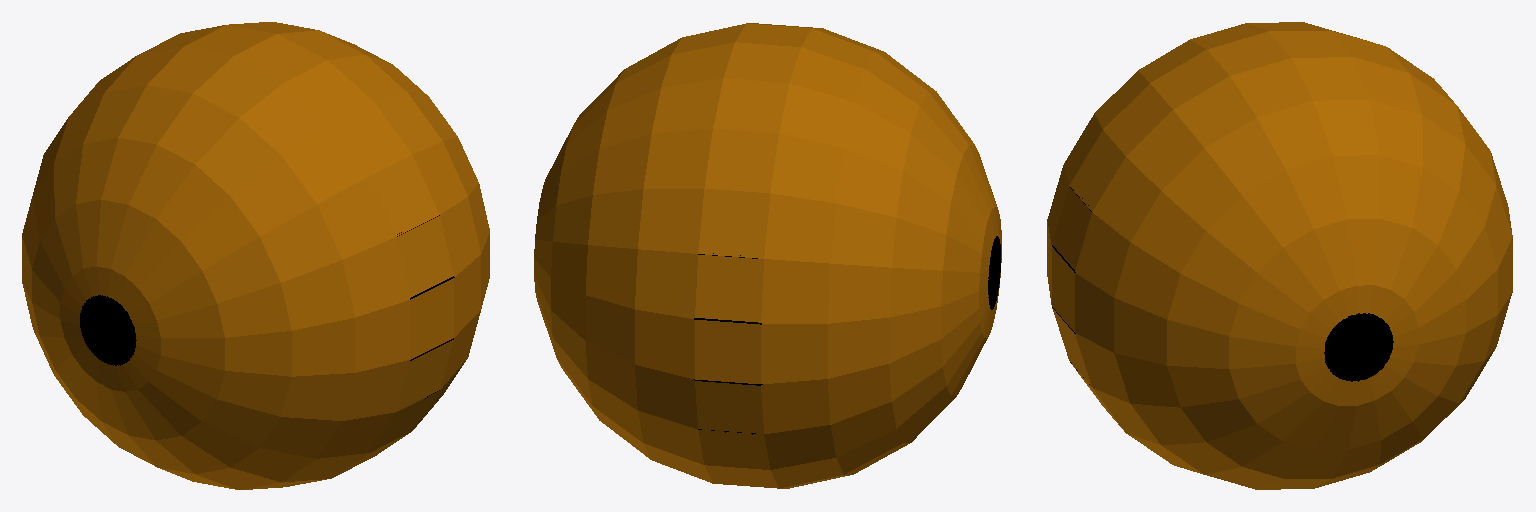
3 views of the same model, side by side, from view 1: azimuth 30°, elevation 25°; view 2: azimuth 150°, elevation 25°; view 3: azimuth 270°, elevation 25° (orthographic).
Parts seen in each view (by area): view 1: treeSphere02; view 2: treeSphere02; view 3: treeSphere02.
Part boxes in pixels (x1,y1,x2,y2): treeSphere02: (22, 22, 489, 489); treeSphere02: (534, 23, 1001, 488); treeSphere02: (1047, 22, 1512, 489).
Size of the model in its own units: 10.22 by 10.14 by 10.12.
Materials: 1 (1 with a texture image).